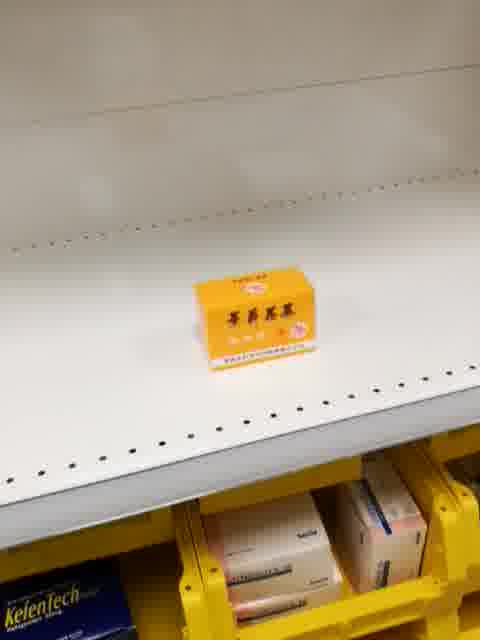jasminetea: (195, 266, 319, 375)
